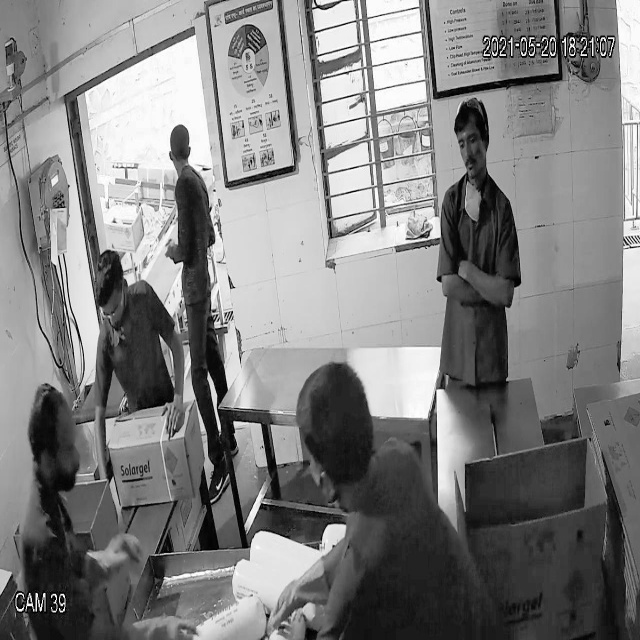Sin_gafas: (455, 124, 487, 154)
